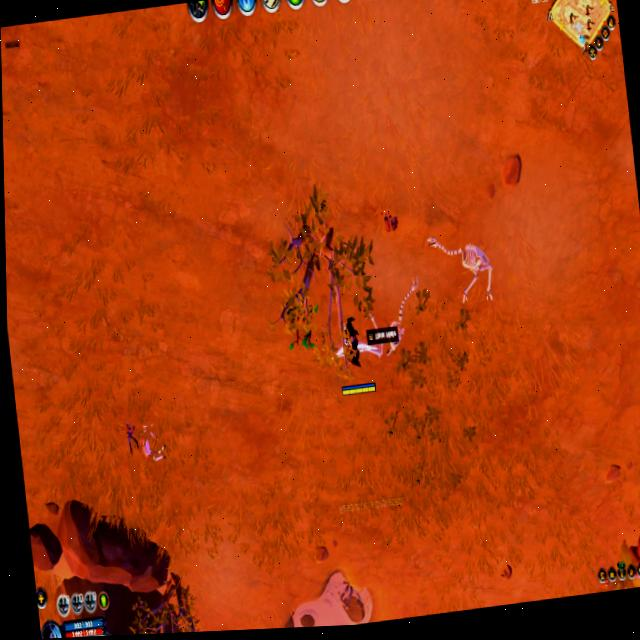mob: (122, 418, 161, 468)
red: (333, 321, 376, 401)
